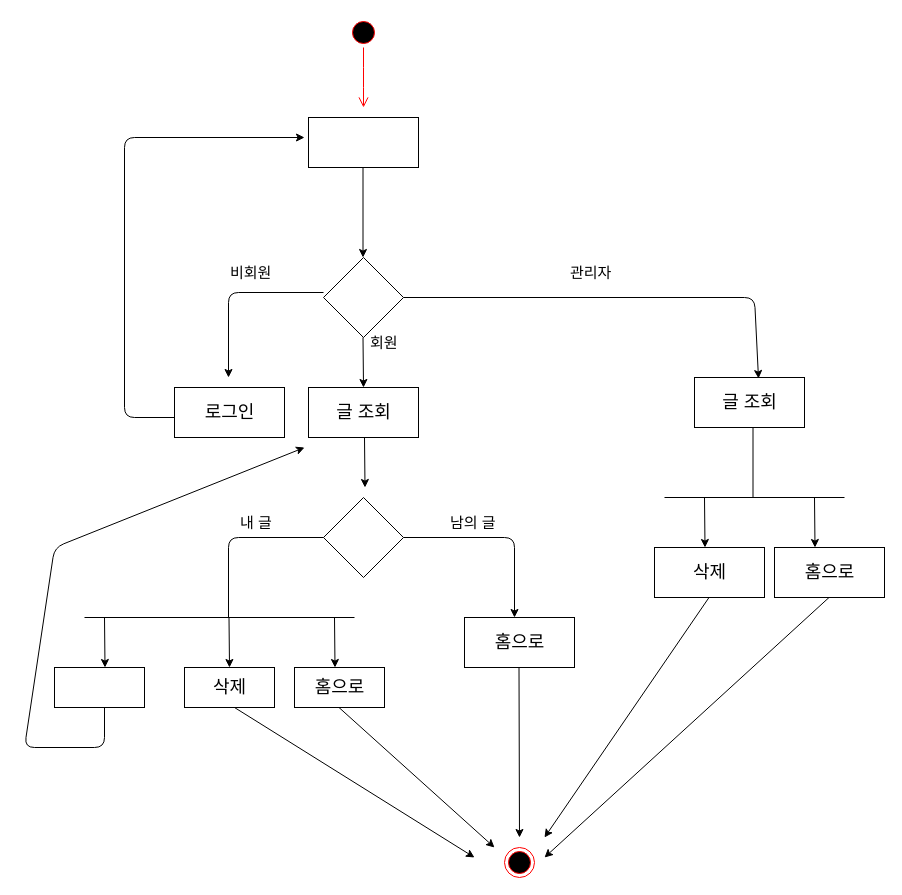
Some shapes in this 902 by 895 pixel diagram are drawn without their labels. The shapes that lost their labels are listed below. From the top down, each one's centre as x and y in pixels, then its label:
At [363,142]: "게시글 클릭".
At [99,687]: "수정".
